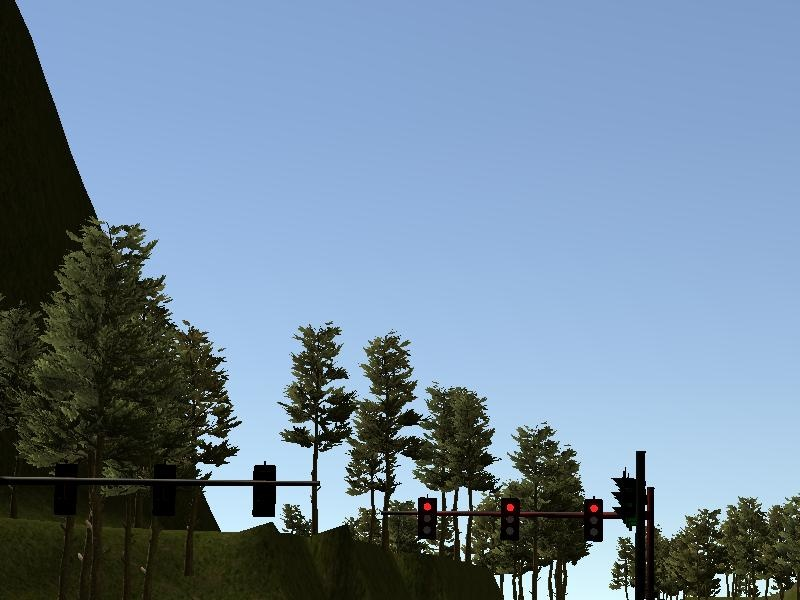Red: (582, 499, 603, 542), (417, 497, 436, 540), (501, 498, 520, 541)
